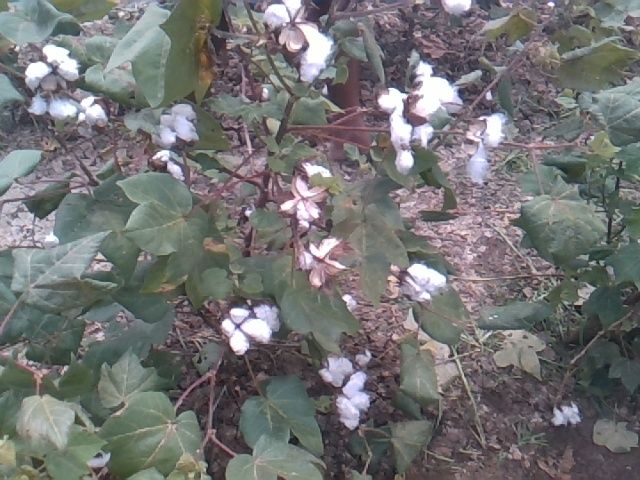cotton: (261, 1, 337, 85), (376, 84, 420, 174), (412, 65, 464, 126), (25, 43, 81, 93), (468, 113, 505, 186), (218, 305, 268, 356), (334, 371, 371, 431), (155, 101, 199, 147), (404, 262, 442, 303), (32, 89, 75, 124), (245, 294, 281, 333), (78, 90, 111, 130), (148, 146, 189, 178), (319, 355, 353, 387), (551, 397, 583, 427)
